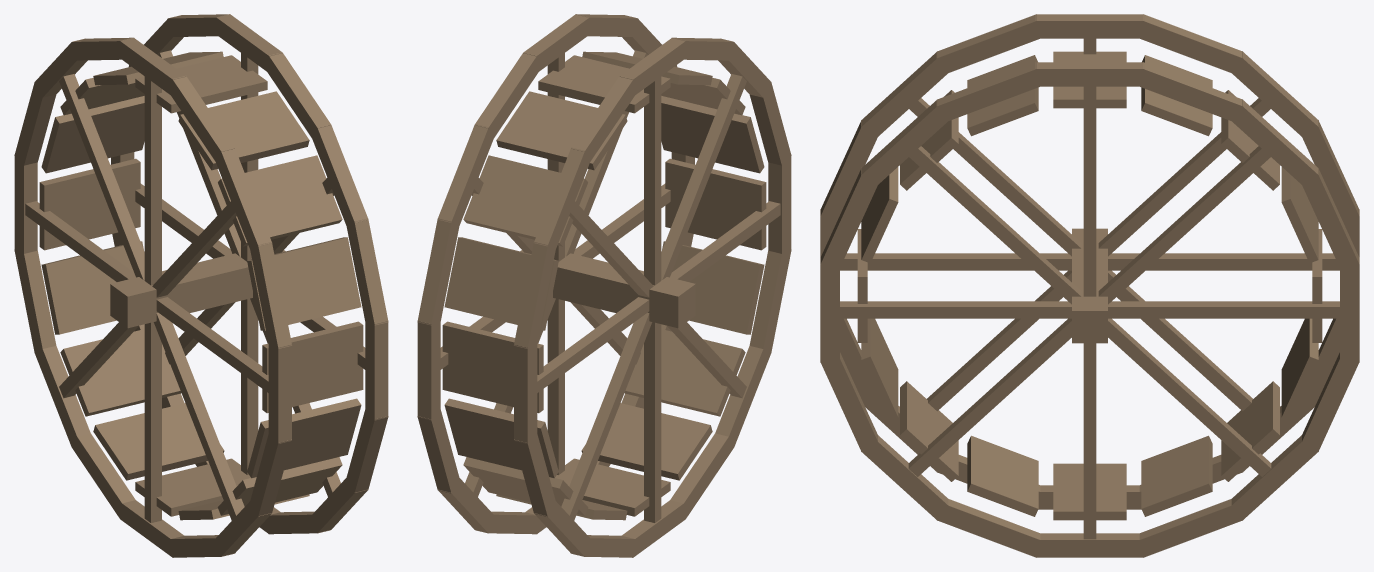
Rendered from waterwheel.glb.
3 renders of one model, left to right at view 1: azimuth 30°, elevation 25°; view 2: azimuth 150°, elevation 25°; view 3: azimuth 270°, elevation 25°, orthographic. The views are drawn at different scales.
Visible parts, largest first — view 1: waterwheel; view 2: waterwheel; view 3: waterwheel.
Boxes of the visible parts, x1,y1,x2,y2 form: waterwheel: [14, 14, 388, 557]; waterwheel: [417, 14, 791, 557]; waterwheel: [820, 14, 1359, 557].
Size of the model in its own units: 1.2 by 3.32 by 3.32.
